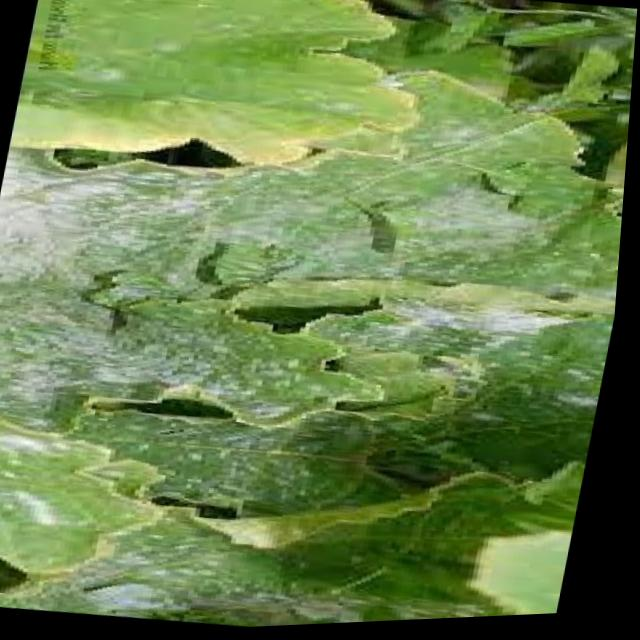Bad: (0, 149, 387, 503), (14, 0, 417, 172), (0, 417, 159, 578)
